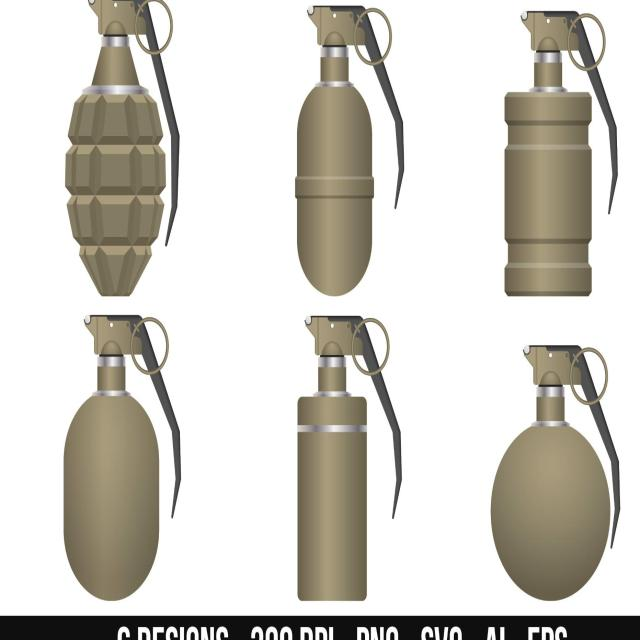grenade: (64, 315, 182, 601), (66, 1, 179, 299), (505, 7, 619, 295), (493, 344, 620, 602), (296, 5, 404, 298), (297, 315, 403, 602)
